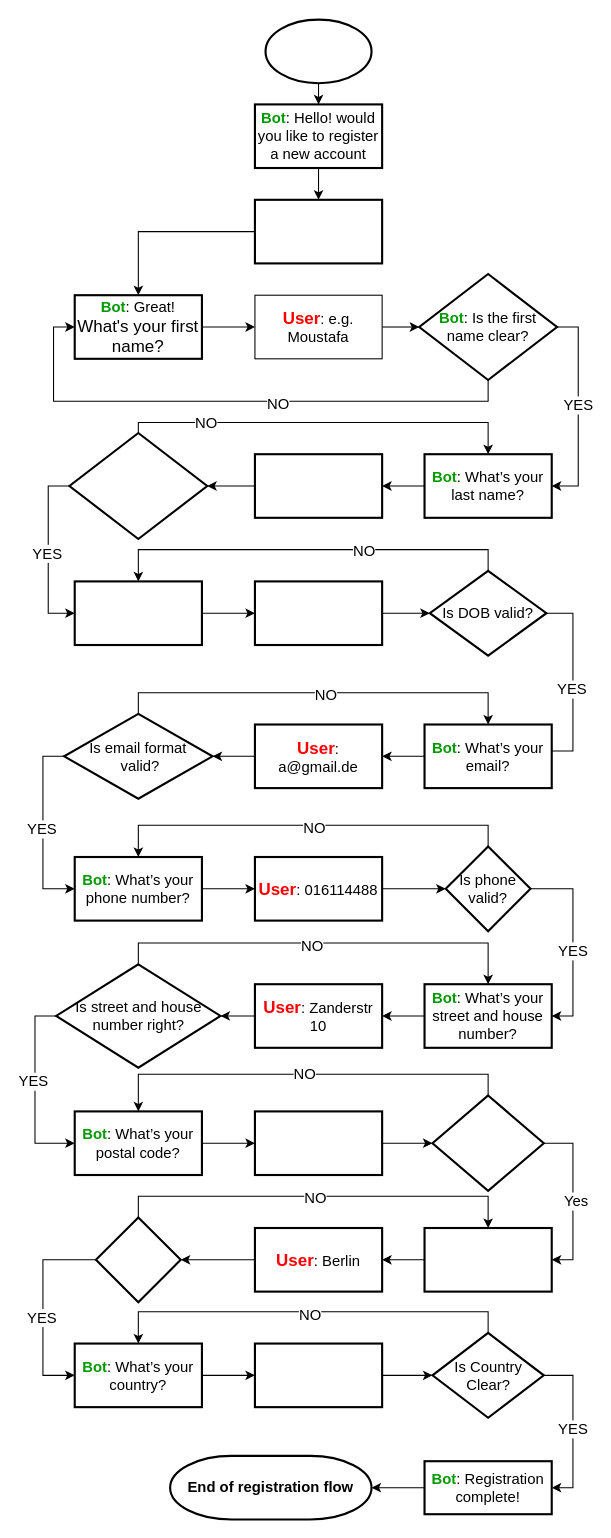
Image size: 611x1538. Some labels were removed from this diagram. The centre of each missing label's shape, as x and y in pixels:
"Bot : What’s your city?" goes at point (487, 1259).
"Bot : What’s your date of birth?" goes at point (137, 613).
"Is postal code right?" goes at point (487, 1142).
"Is the City Clear?" goes at point (137, 1259).
"Is the last name clear?" goes at point (138, 485).
"Start" goes at point (318, 51).
"User : 1-1-1990" goes at point (318, 613).
"User : 12345" goes at point (318, 1143).
"User : Abdelrahman" goes at point (318, 485).
"User : Germany" goes at point (318, 1375).
"User : Yes" goes at point (318, 231).
